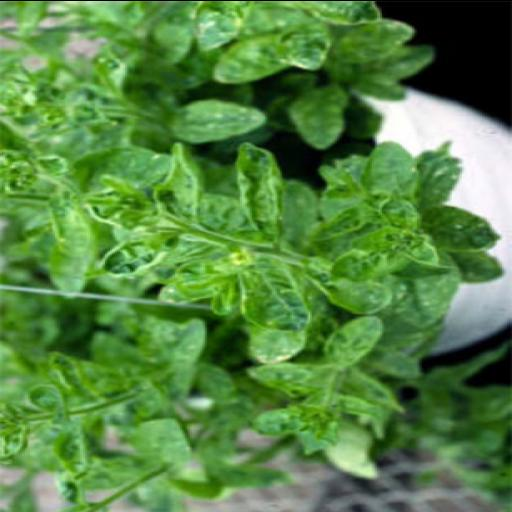disease_tomato: (228, 250, 312, 338), (237, 137, 287, 233), (318, 312, 390, 376), (150, 140, 206, 222), (98, 236, 168, 278), (282, 12, 332, 70), (384, 183, 420, 231)
